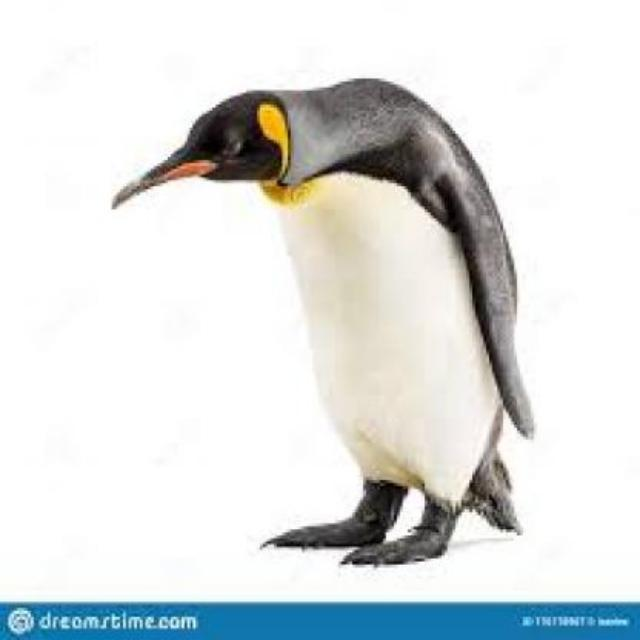penguin: (111, 78, 537, 568)
